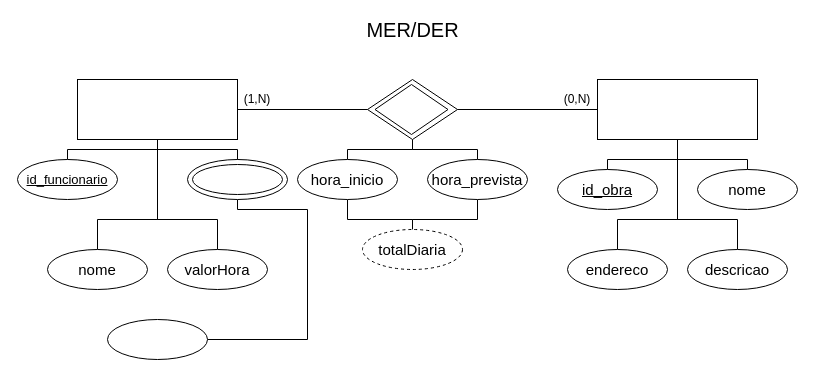
Image size: 815x377. Some labels were removed from this diagram. The shapes that lost their labels are listed below. From the top down, each one's box as (x1, y1, x2, y2) in pixels, then its label:
(76, 78, 238, 140): Funcionarios
(374, 84, 448, 134): Possui
(596, 78, 758, 140): Obras
(192, 164, 282, 194): funcao
(106, 318, 208, 360): id_funcao
